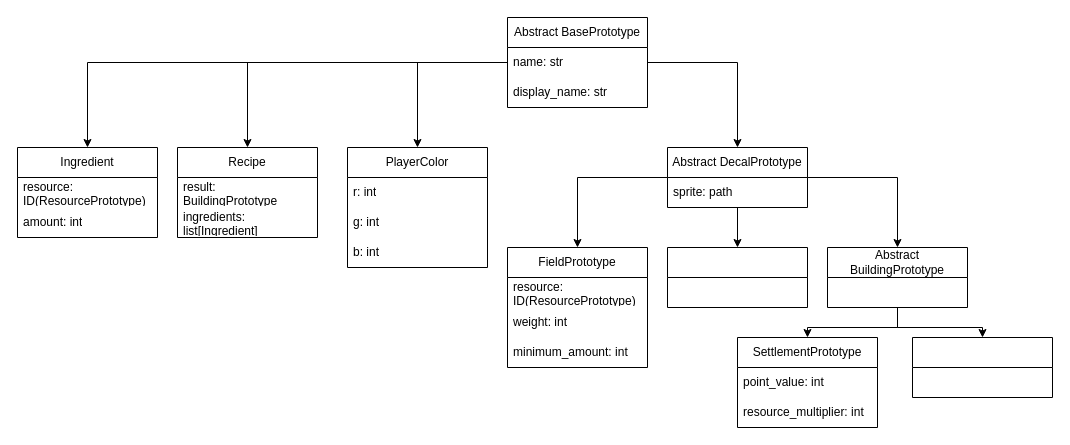
Image size: 1070x445. Some labels were removed from this diagram. Each missing label, with the centre of its shape:
"ResourcePrototype" belongs at point 737,277.
"RoadPrototype" belongs at point 982,367.
